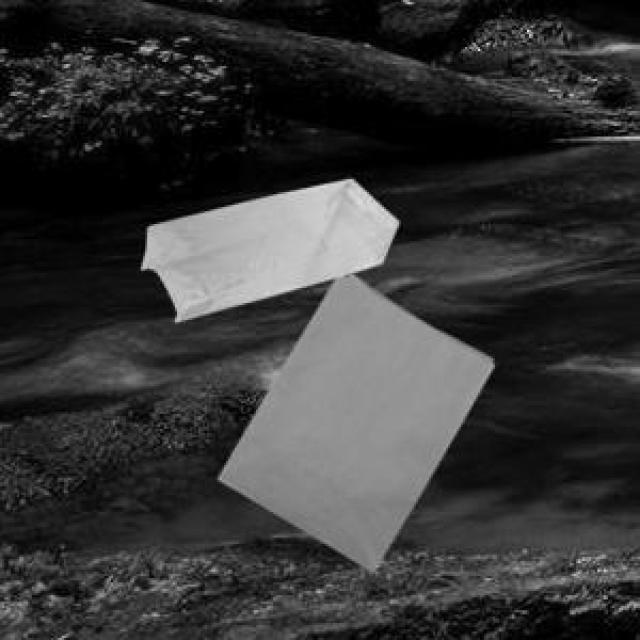paper: (213, 271, 491, 568)
